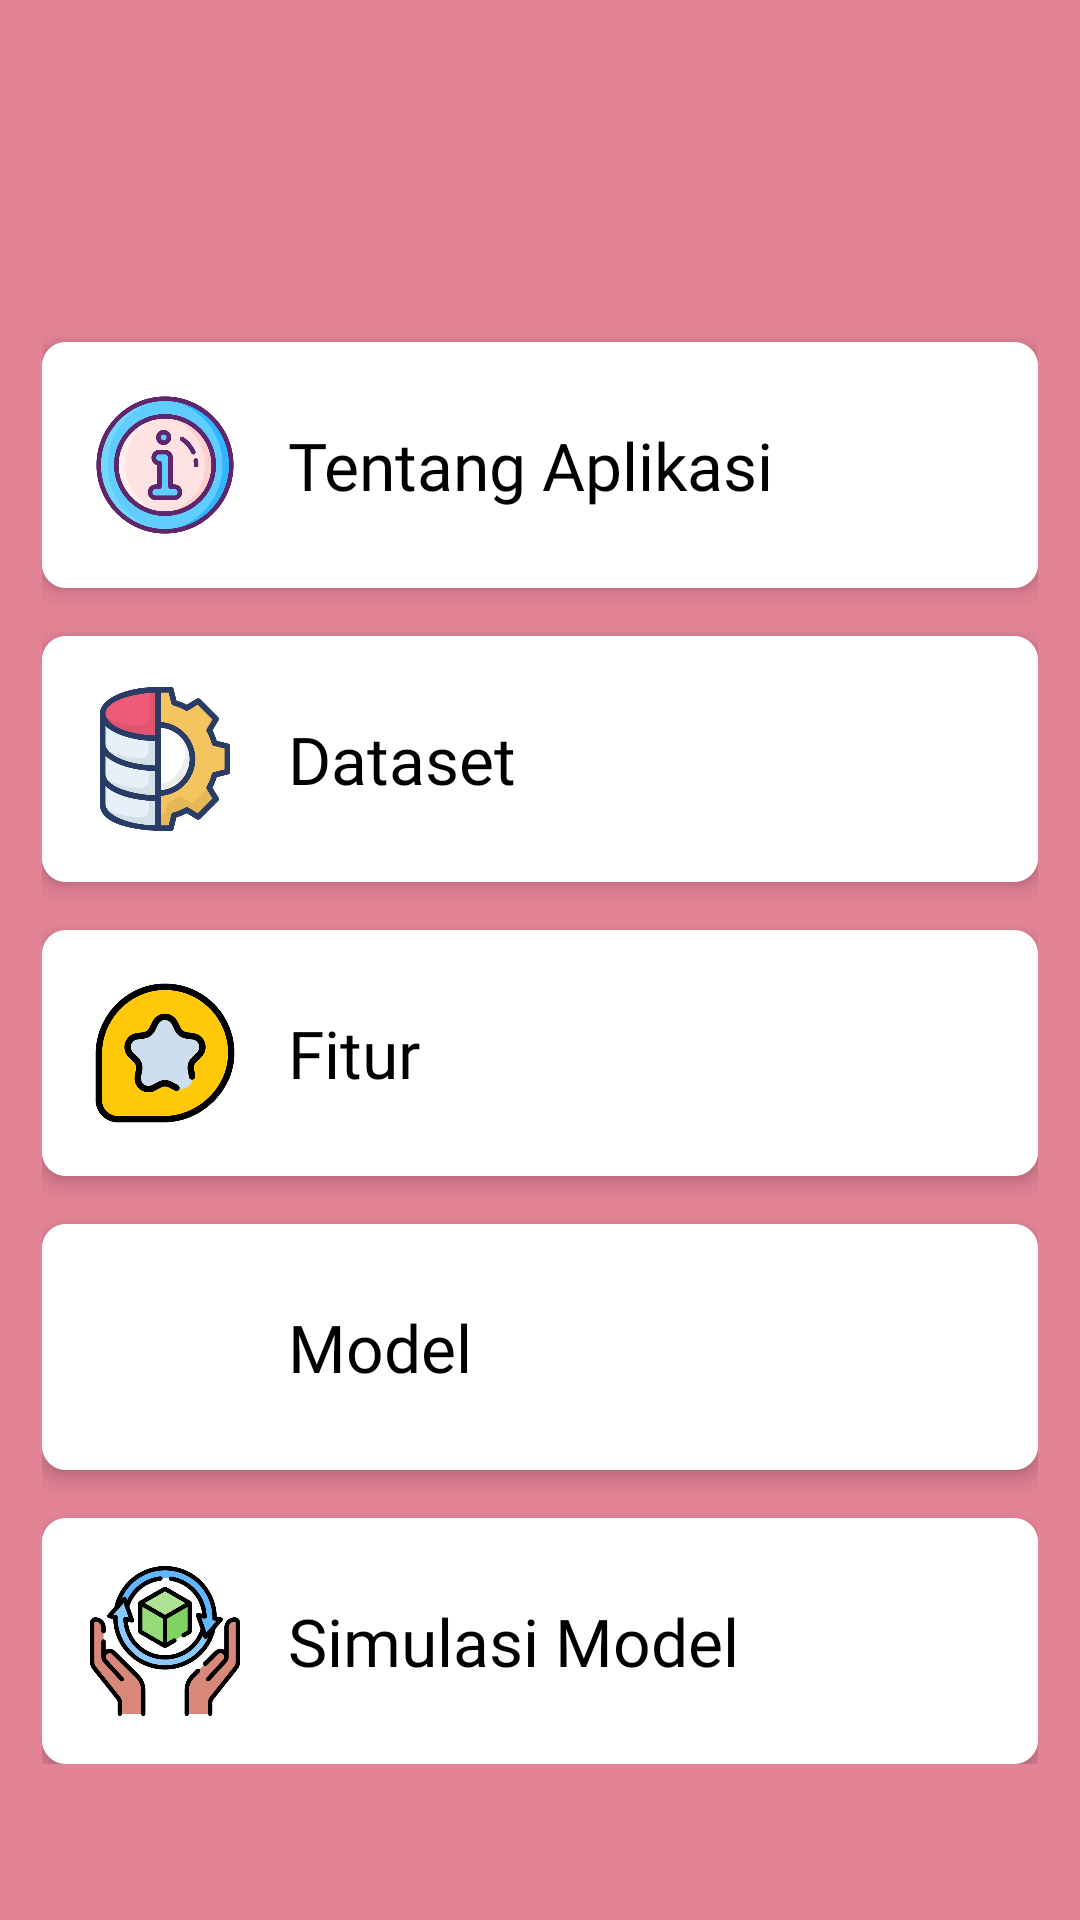

Point at icon controls on the screen. Image size 1080×1920, points as [x,y].
about: [165,465]
